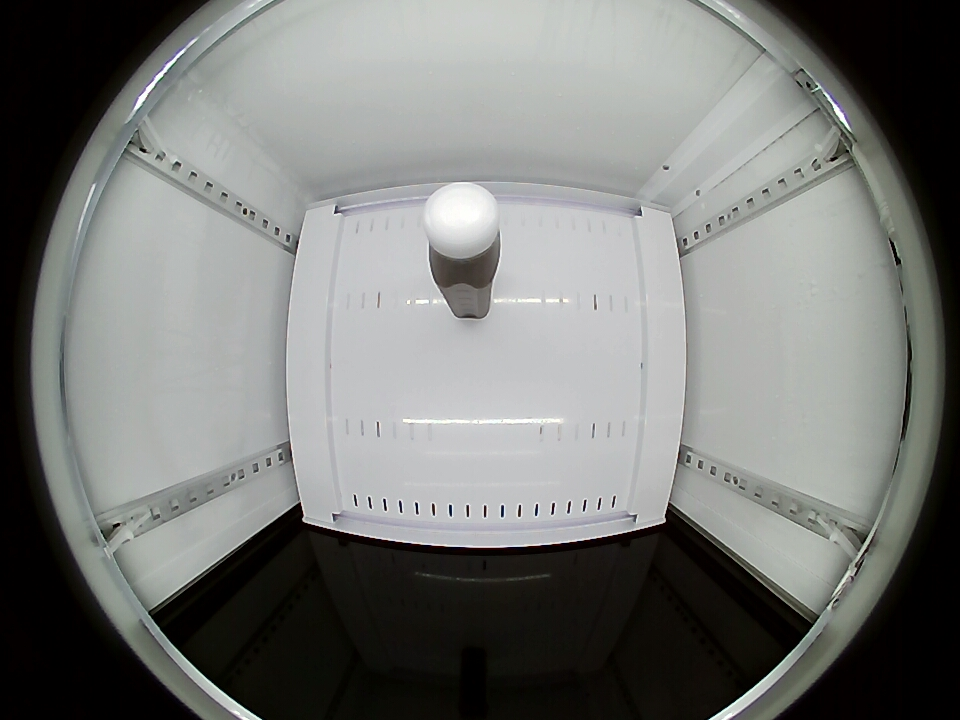youyanggudong: (423, 182, 503, 287)
